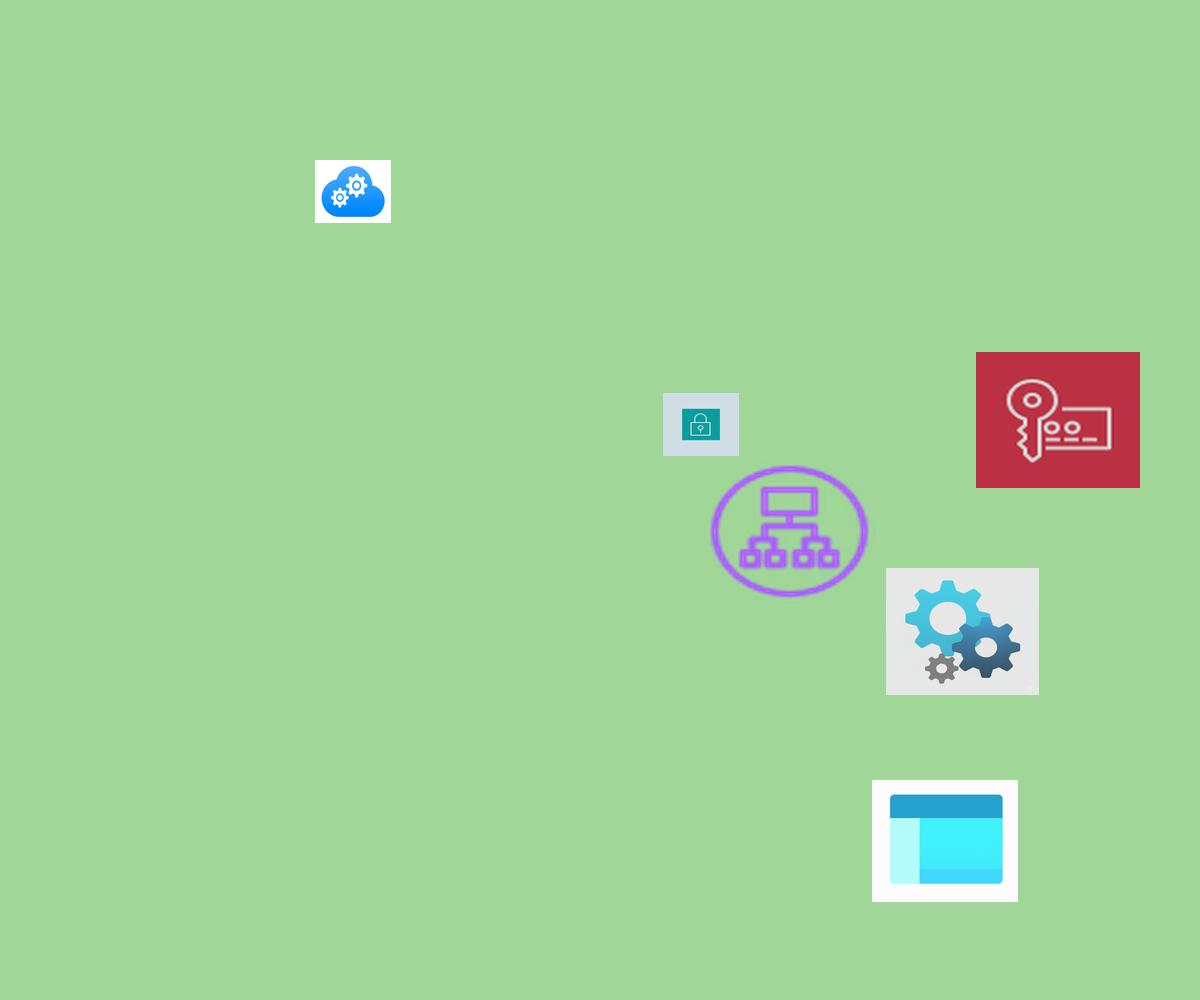AWS-Key-Management-Service: (976, 352, 1140, 488)
AWS-Private-subnet: (663, 393, 739, 456)
AWS-Res_Elastic-Load-Balancing_Application-Load-Balancer: (704, 460, 875, 603)
Azure_api: (886, 568, 1039, 695)
Azure_cloud_services: (315, 160, 391, 223)
Azure_management-portal: (872, 780, 1018, 902)
